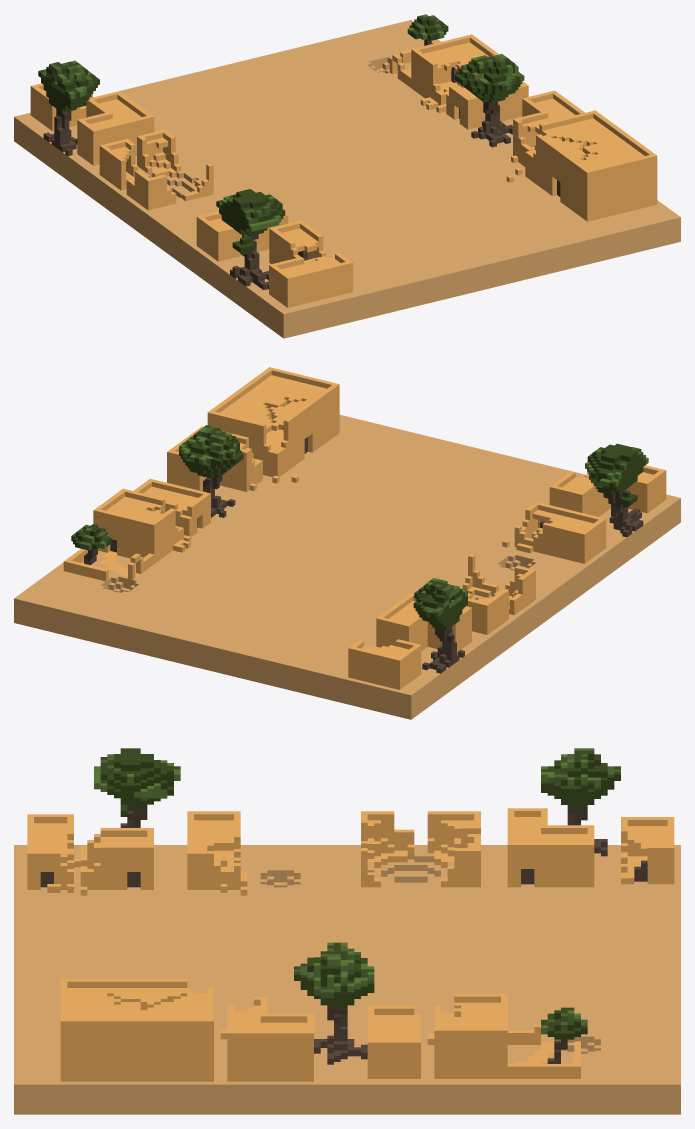
File: map07.obj
3 renders of one model, top to bottom at view 1: azimuth 30°, elevation 25°; view 2: azimuth 150°, elevation 25°; view 3: azimuth 270°, elevation 25°, orthographic. The views are drawn at different scales.
Bounding box in the file's own units: 8.5 × 2.1 × 10.
Materials: 1 (1 with a texture image).
